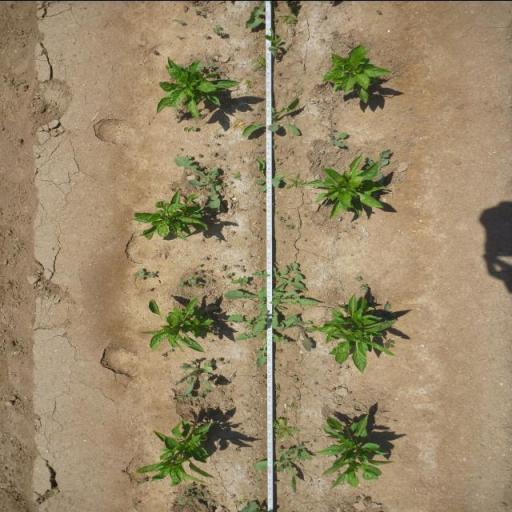plant: (316, 291, 397, 375), (314, 412, 396, 492), (135, 412, 221, 487), (305, 150, 389, 219), (154, 57, 244, 120), (319, 42, 392, 105), (139, 295, 218, 352), (130, 188, 211, 243)
weed: (224, 282, 323, 333), (226, 312, 293, 367), (172, 155, 224, 212), (241, 96, 308, 138), (253, 451, 301, 493), (277, 317, 315, 352), (250, 267, 307, 290), (253, 157, 285, 193), (365, 146, 395, 184), (172, 366, 215, 392), (177, 482, 211, 505), (272, 416, 302, 440), (286, 442, 315, 463), (265, 28, 282, 60), (278, 3, 299, 26), (283, 172, 306, 190), (326, 131, 348, 148), (382, 300, 399, 321), (286, 262, 304, 279), (250, 54, 266, 72), (186, 276, 204, 288), (230, 276, 248, 287), (132, 267, 146, 280), (204, 357, 220, 366), (230, 170, 243, 181), (382, 338, 396, 348), (242, 78, 256, 88), (286, 400, 299, 410), (234, 496, 248, 505), (204, 62, 218, 70), (177, 394, 194, 400), (184, 124, 198, 131), (177, 278, 186, 288), (146, 270, 156, 279), (199, 112, 208, 122), (212, 30, 226, 36), (362, 495, 372, 503), (360, 283, 368, 291), (192, 269, 202, 275), (213, 24, 223, 30), (276, 445, 283, 453), (296, 87, 304, 94), (226, 271, 233, 278), (139, 478, 147, 484), (197, 394, 205, 400), (201, 256, 209, 262), (214, 133, 223, 138), (197, 152, 204, 158), (278, 215, 284, 222), (177, 18, 184, 24), (208, 55, 216, 60), (173, 107, 181, 112), (274, 384, 280, 390), (355, 276, 361, 282), (204, 186, 210, 192), (210, 150, 216, 156), (272, 15, 278, 21), (153, 49, 159, 55), (376, 8, 382, 14), (168, 348, 175, 353), (214, 238, 221, 243), (202, 390, 210, 394), (276, 157, 284, 161), (208, 278, 213, 284), (337, 215, 342, 221), (272, 143, 278, 148), (286, 224, 293, 228), (146, 288, 152, 292), (276, 162, 282, 166), (276, 70, 282, 74), (204, 32, 208, 38), (175, 35, 183, 38), (330, 388, 335, 392), (293, 378, 298, 382), (262, 374, 266, 379), (162, 353, 167, 357), (221, 264, 226, 268), (193, 8, 198, 12), (218, 69, 223, 73), (214, 142, 220, 145), (222, 182, 226, 186), (240, 158, 244, 162), (276, 364, 281, 367), (349, 226, 356, 228), (336, 386, 342, 388), (197, 264, 203, 266), (348, 391, 352, 394), (336, 404, 340, 407), (338, 366, 341, 370), (324, 204, 329, 206), (260, 208, 264, 210), (171, 398, 175, 400), (346, 366, 348, 368)
